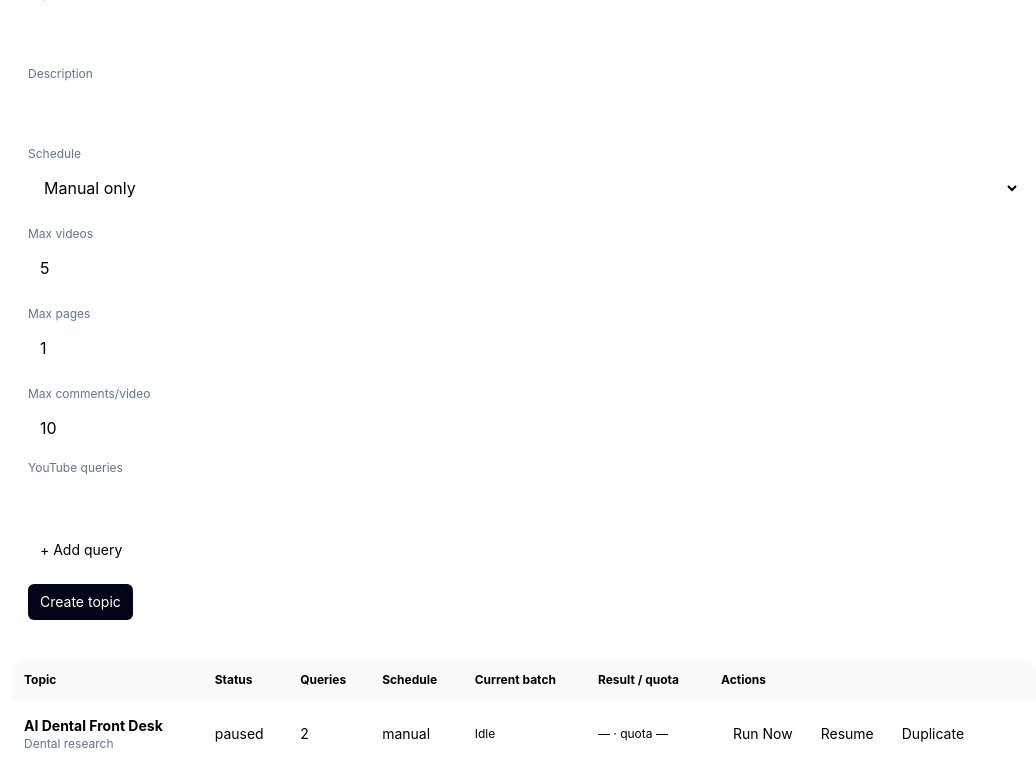
Test case: Discovery Console › renders duplicate batch conflict as domain status
This screenshot has width=1036, height=768.
(page scrolled)
Expected: the text "AI Dental Front Desk" is shown, x1=24 y1=717 x2=163 y2=734
Click the button "Run Now" at (763, 734), box x1=721 y1=716 x2=805 y2=752
(page scrolled)
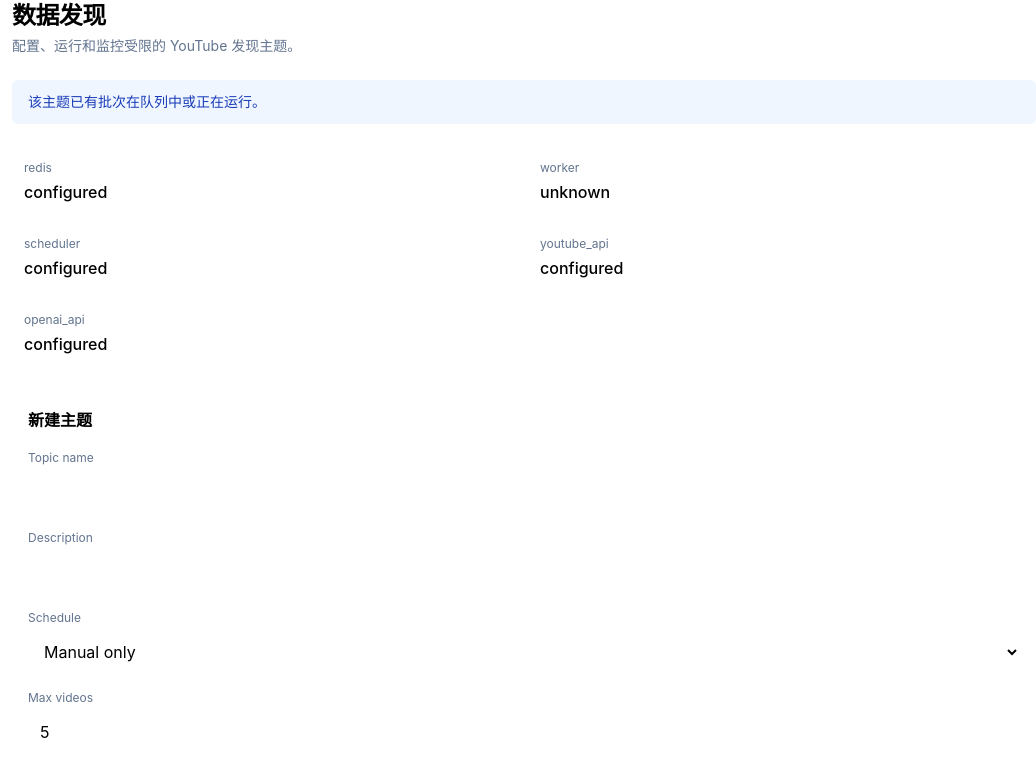
Now the text "该主题已有批次在队列中或正在运行。" is shown, box x1=12 y1=80 x2=1035 y2=124
